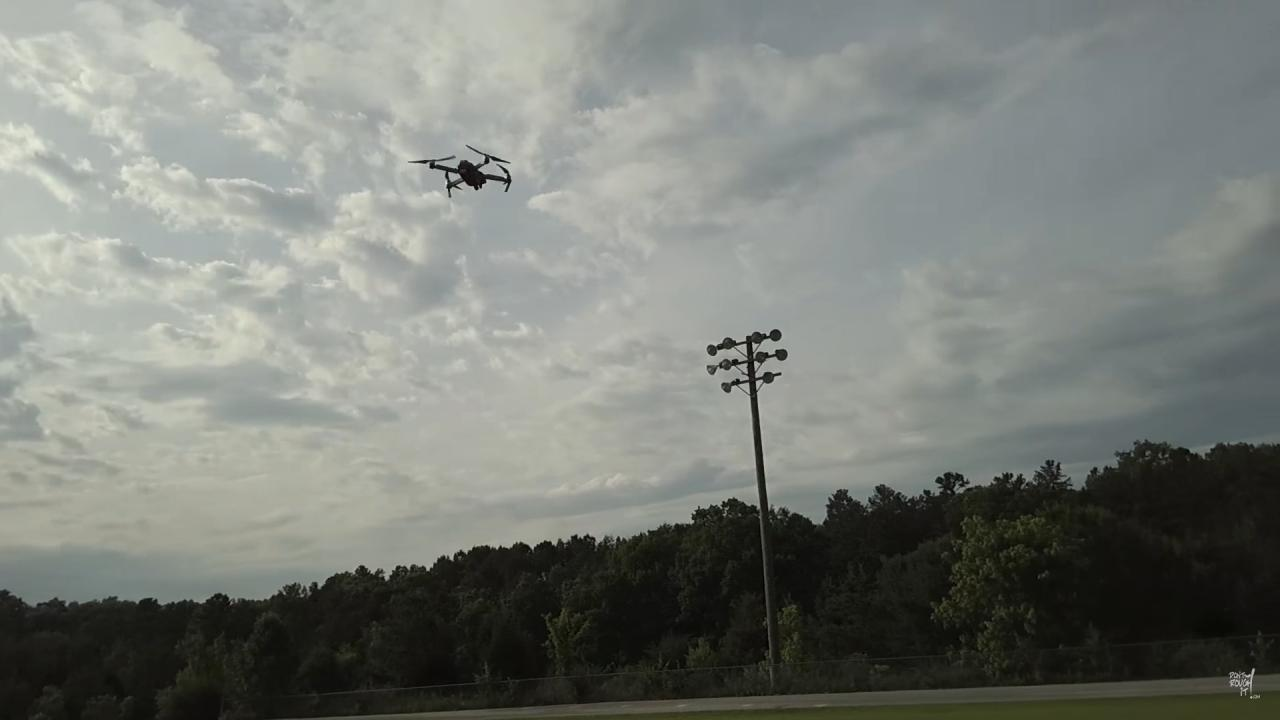Drone: (403, 137, 523, 207)
